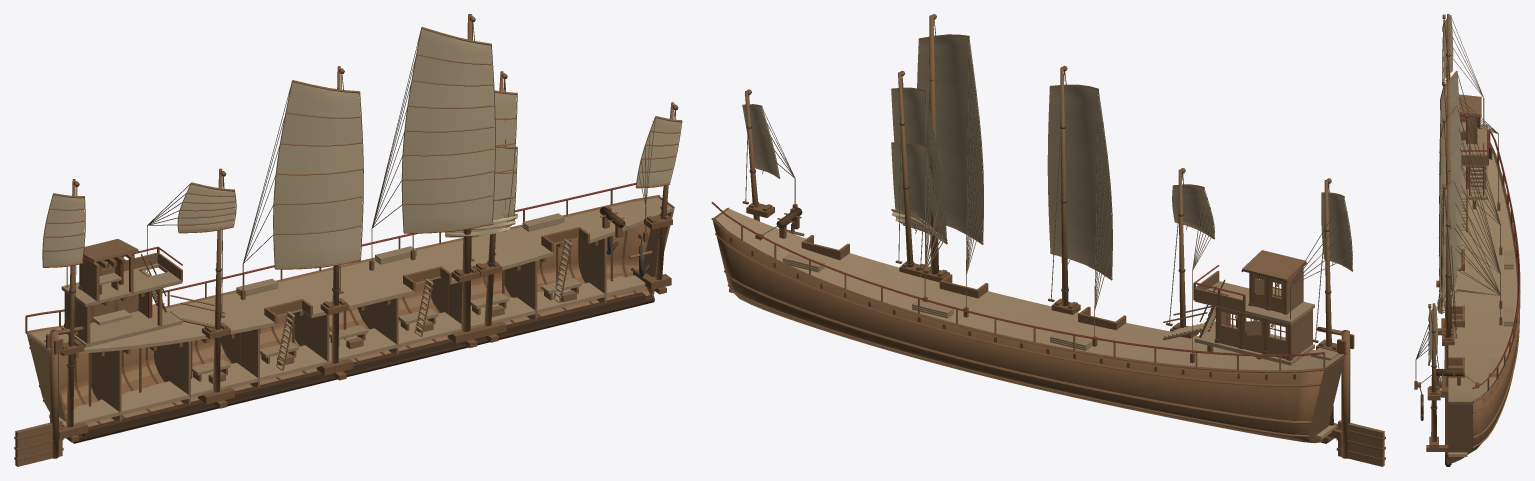
File: zuochuan-section.glb
The picture shows the model from 3 angles, left to right: view 1: azimuth 30°, elevation 25°; view 2: azimuth 150°, elevation 25°; view 3: azimuth 270°, elevation 25°; orthographic projection. The views are drawn at different scales.
Parts seen in each view (by area): view 1: Battened sail panels.011_WEB, Battened sail panels.010_WEB, Port planked shell.001_WEB, Keelson.001_WEB, Battened sail panels.008_WEB, Keel.001_WEB, Battened sail panels.012_WEB, Battened sail panels.009_WEB, Battened sail panels.015_WEB, Level floor.001_WEB, Structural bulkhead.008_WEB, Structural bulkhead.009_WEB (+24 smaller); view 2: Port planked shell.001_WEB, Battened sail panels.010_WEB, Battened sail panels.011_WEB, Battened sail panels.013_WEB, Battened sail panels.012_WEB, Battened sail panels.008_WEB, Stern transom.001_WEB, Battened sail panels.009_WEB, Battened sail panels.015_WEB, Tapered mast.008_WEB, Rudder blade.001_WEB, Cambered upper shelter roof.001_WEB (+17 smaller); view 3: Port planked shell.001_WEB, Battened sail panels.011_WEB, Bow closure.001_WEB, Tapered mast.010_WEB, Tapered mast.011_WEB, Battened sail panels.013_WEB, Battened sail panels.010_WEB, Battened sail panels.012_WEB, Main deck plank.063_WEB, Tapered mast.009_WEB, Main deck plank.065_WEB, Main deck plank.066_WEB (+57 smaller).
Boxes of the visible parts, x1,y1,x2,y2 form: Battened sail panels.011_WEB: [401, 27, 494, 231]; Battened sail panels.010_WEB: [273, 81, 362, 267]; Port planked shell.001_WEB: [30, 197, 658, 426]; Keelson.001_WEB: [82, 292, 645, 437]; Battened sail panels.008_WEB: [42, 194, 84, 265]; Keel.001_WEB: [72, 295, 654, 443]; Battened sail panels.012_WEB: [445, 92, 516, 235]; Battened sail panels.009_WEB: [177, 184, 235, 231]; Battened sail panels.015_WEB: [635, 117, 681, 186]; Level floor.001_WEB: [61, 304, 182, 347]; Structural bulkhead.008_WEB: [91, 350, 121, 421]; Structural bulkhead.009_WEB: [154, 341, 190, 404]; Port planked shell.001_WEB: [713, 219, 1323, 442]; Battened sail panels.010_WEB: [1047, 86, 1112, 279]; Battened sail panels.011_WEB: [917, 36, 983, 243]; Battened sail panels.013_WEB: [891, 143, 947, 240]; Battened sail panels.012_WEB: [891, 89, 946, 243]; Battened sail panels.008_WEB: [1321, 194, 1352, 270]; Stern transom.001_WEB: [1308, 353, 1344, 442]; Battened sail panels.009_WEB: [1172, 186, 1213, 238]; Battened sail panels.015_WEB: [742, 106, 778, 177]; Tapered mast.008_WEB: [1060, 67, 1068, 306]; Rudder blade.001_WEB: [1338, 420, 1384, 466]; Cambered upper shelter roof.001_WEB: [1242, 250, 1306, 281]; Port planked shell.001_WEB: [1468, 144, 1518, 454]; Battened sail panels.011_WEB: [1440, 107, 1461, 295]; Bow closure.001_WEB: [1448, 400, 1472, 464]; Tapered mast.010_WEB: [1445, 184, 1450, 387]; Tapered mast.011_WEB: [1431, 303, 1436, 441]; Battened sail panels.013_WEB: [1437, 227, 1458, 313]; Battened sail panels.010_WEB: [1440, 72, 1461, 171]; Battened sail panels.012_WEB: [1441, 181, 1456, 295]; Main deck plank.063_WEB: [1456, 275, 1517, 283]; Tapered mast.009_WEB: [1444, 117, 1451, 377]; Main deck plank.065_WEB: [1451, 292, 1517, 299]; Main deck plank.066_WEB: [1451, 300, 1517, 307].
Size of the model in its own units: 39.13 by 19.31 by 6.57.
23 materials, 10 textured.
